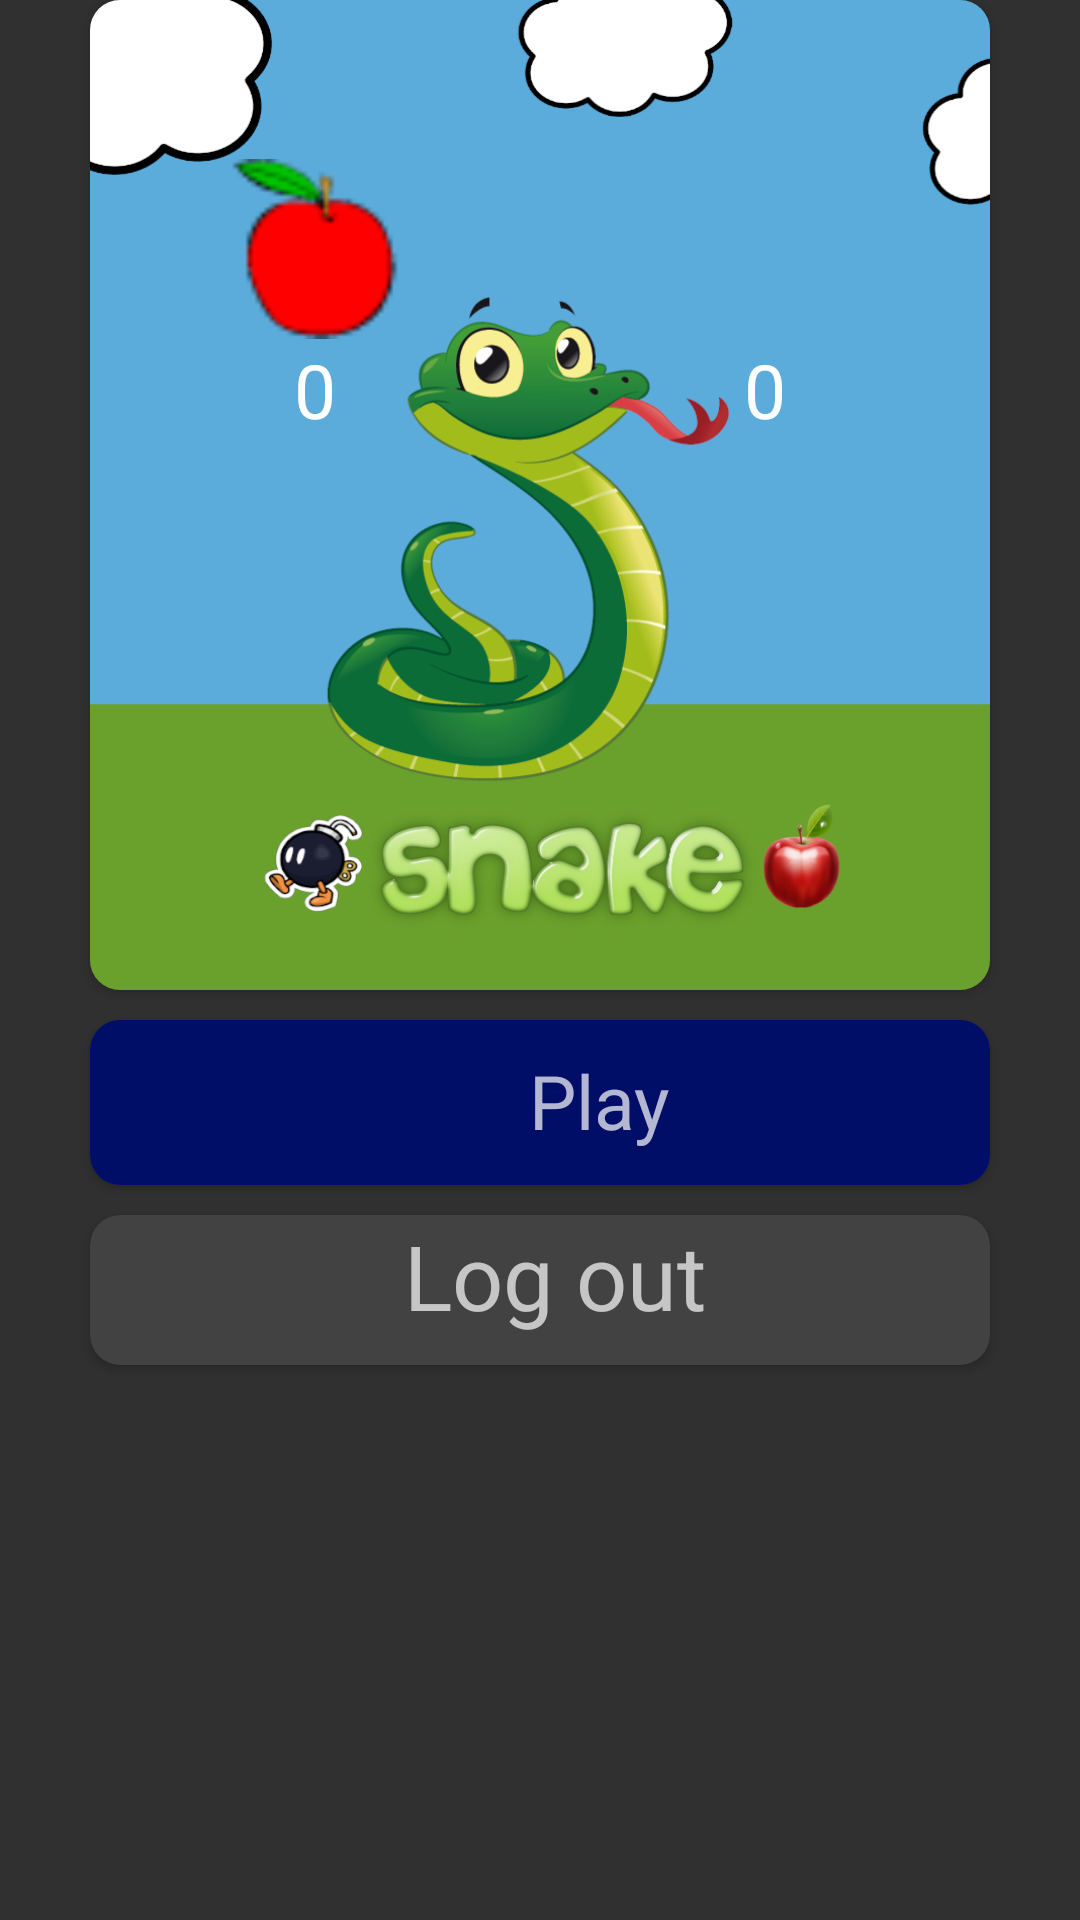

Named icons in this screenshot (1080 x 1920) and their bounding boxes, (x1, y1, x2, y2):
apple good: (233, 159, 397, 339)
